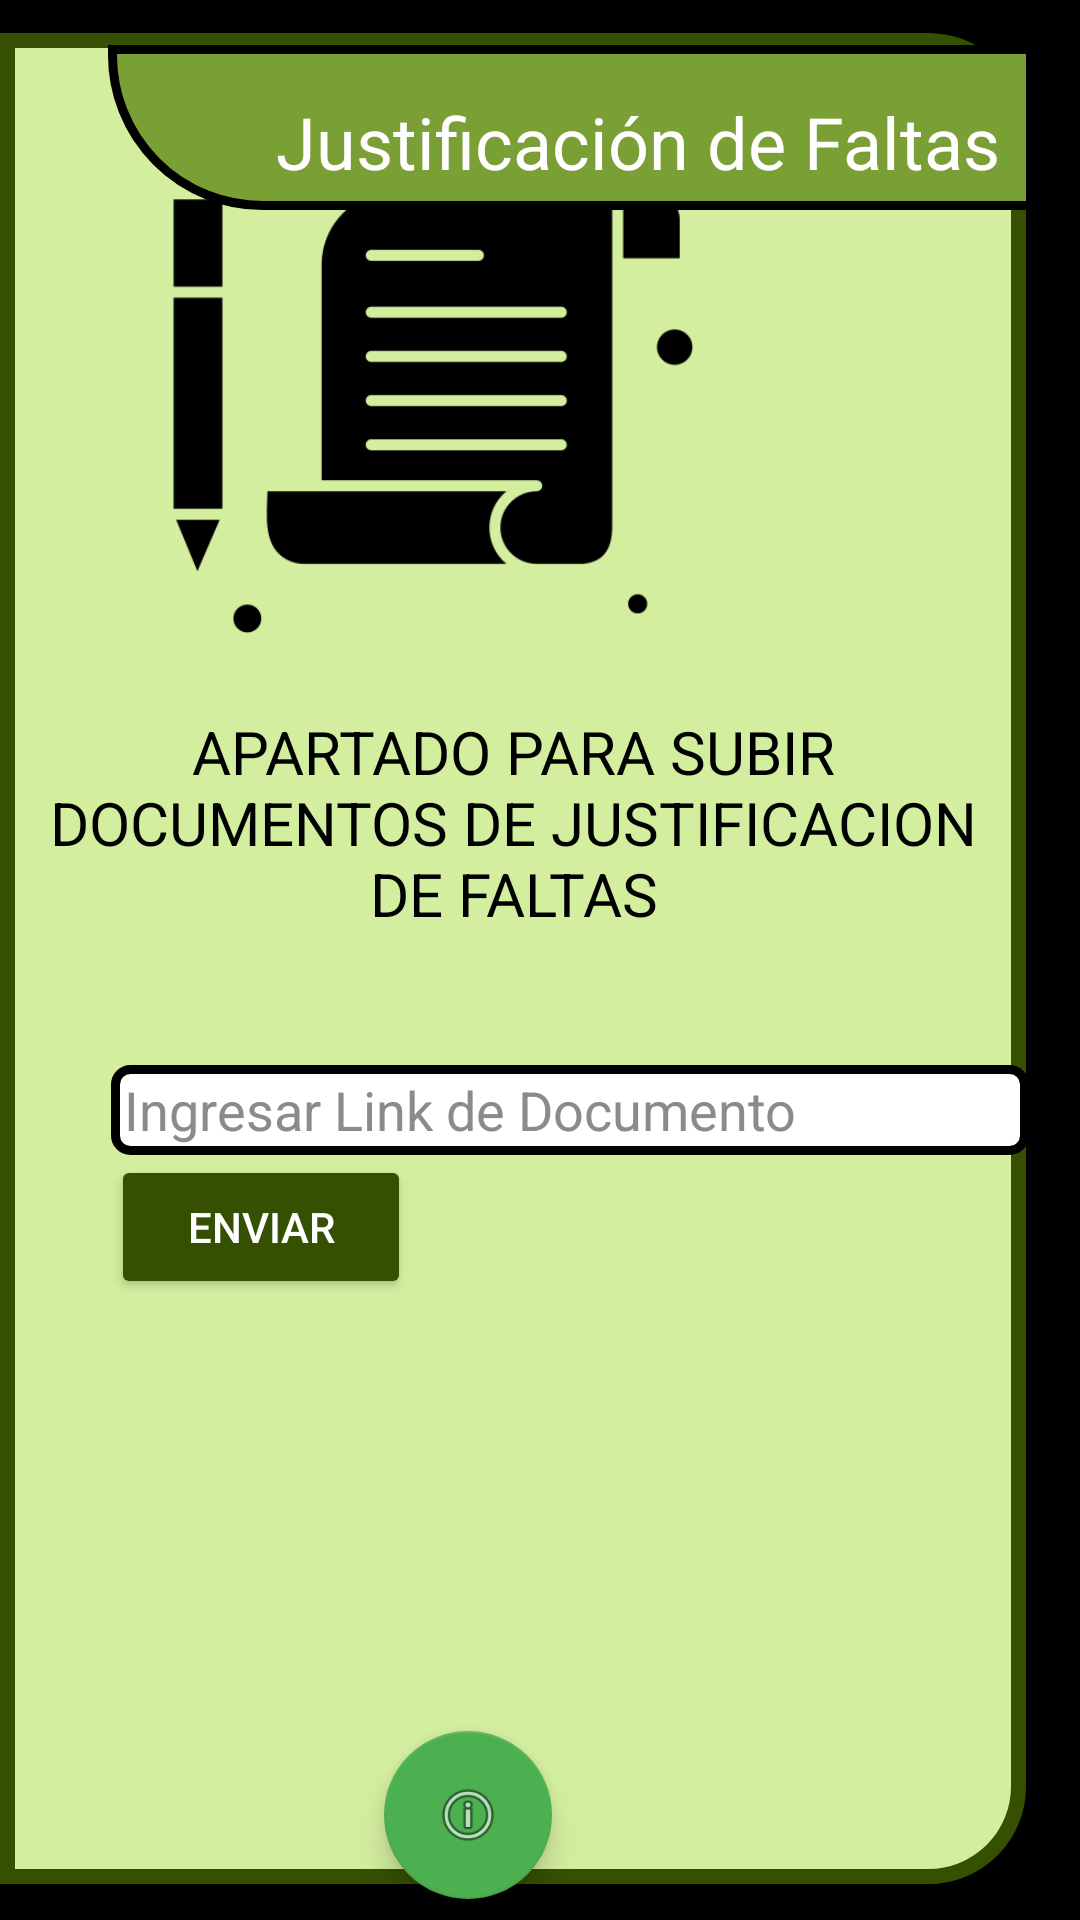

Icon click points for this 1080×1920 phone screenshot, format (x=x, y=y):
info details: (x=468, y=1815)
